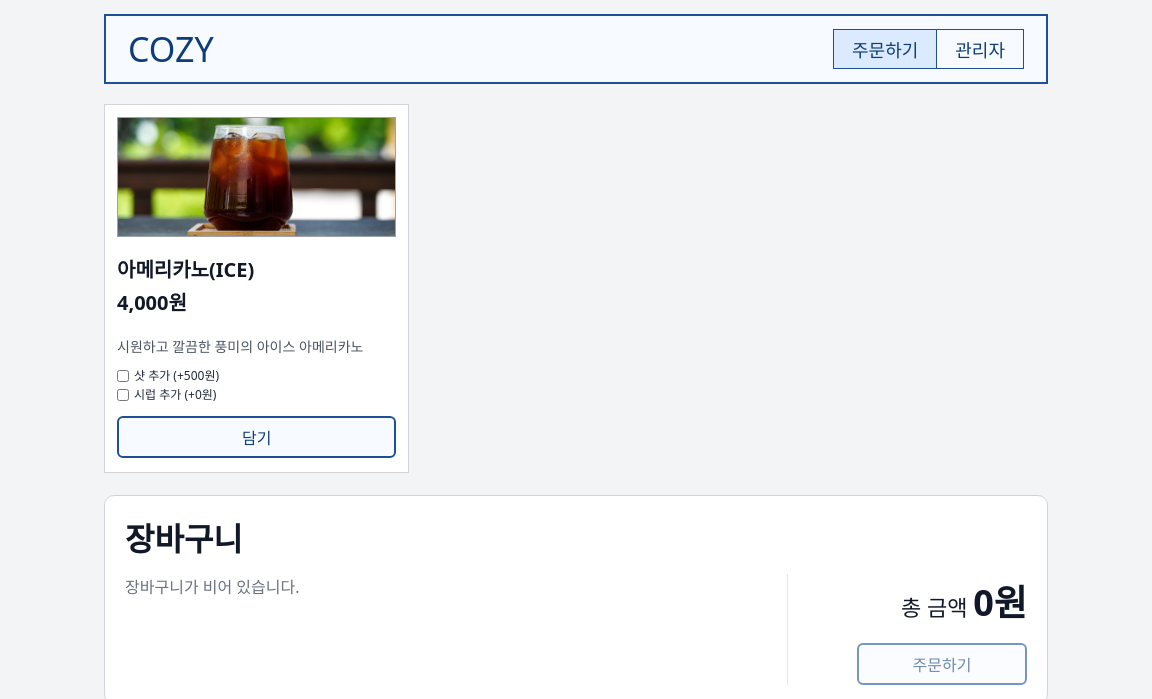
order app behavior › merges same cart item and increments quantity
Click the button "담기": [257, 437] box [117, 416, 396, 458]
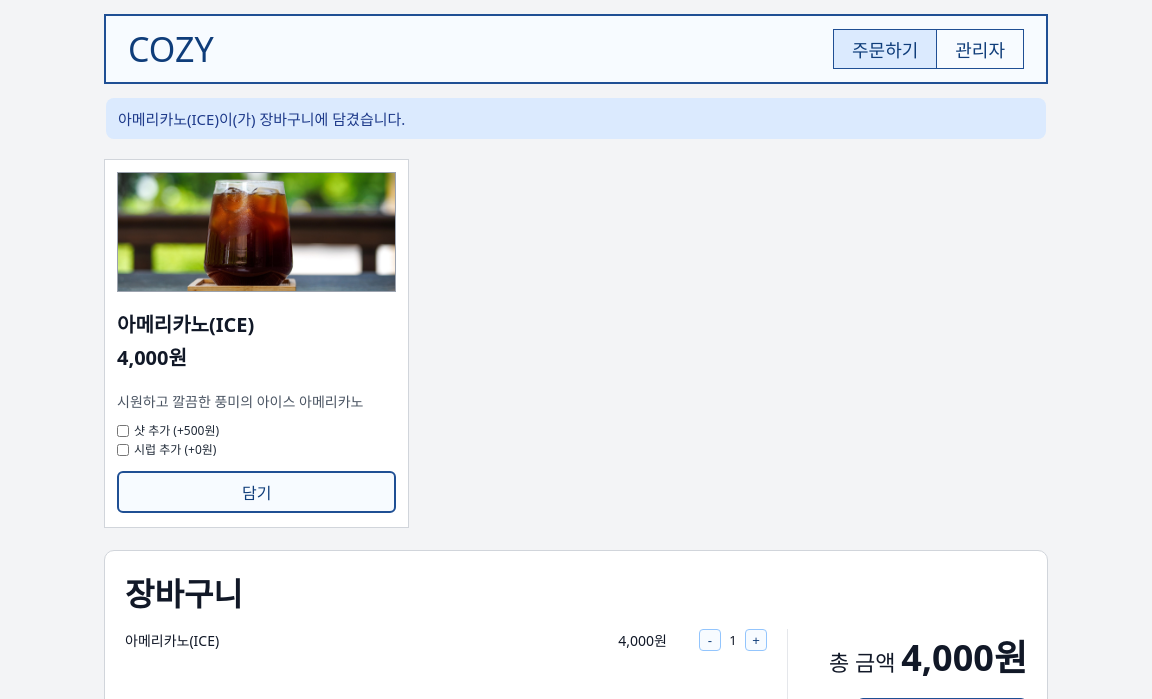
Click the button "담기": [257, 492] box [117, 471, 396, 513]
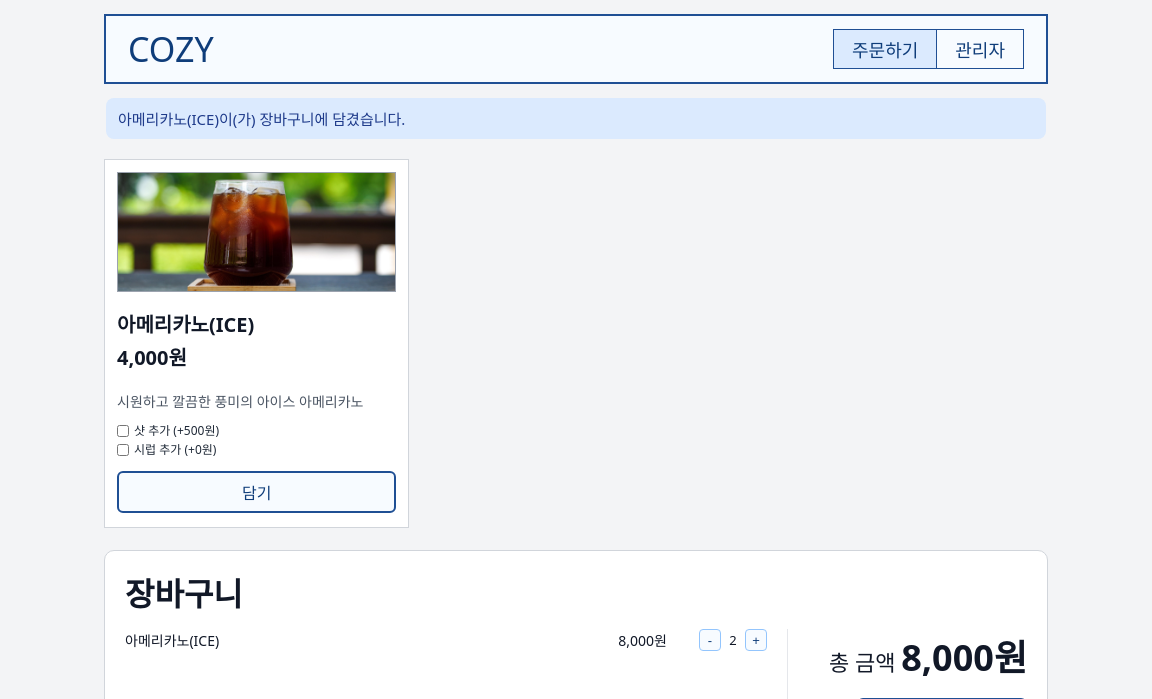
Check: the text "2" is shown, box [729, 631, 737, 649]
Check: the 1st text "8,000원" is shown, box [618, 631, 667, 650]
